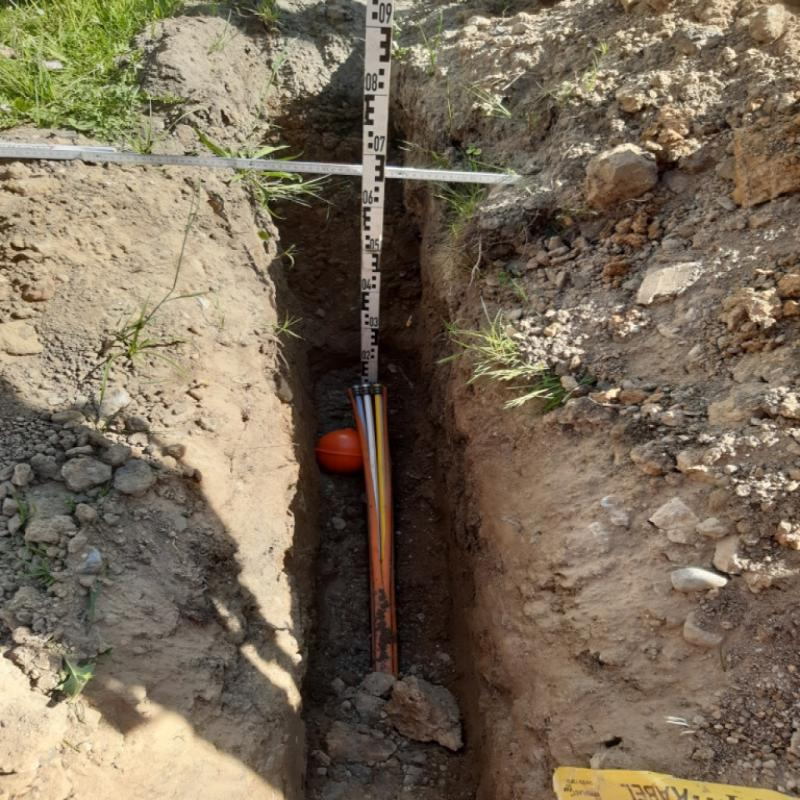Kugelmarker: (314, 426, 364, 476)
Orang-Speednetrohrchen: (344, 382, 398, 677)
